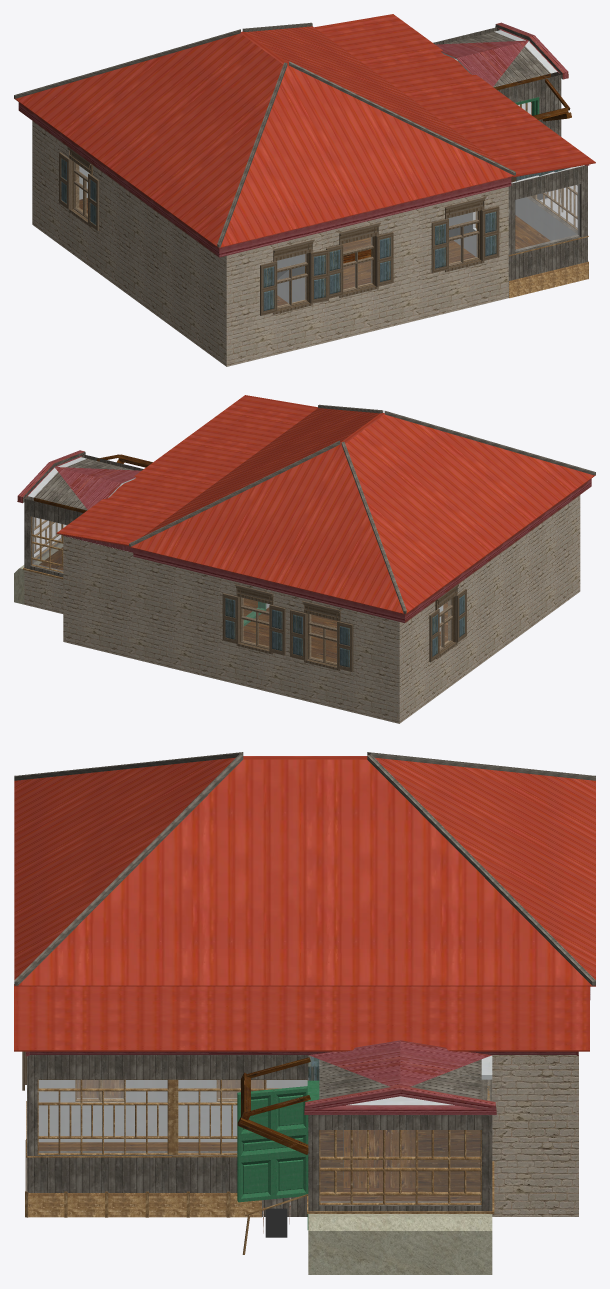
File: countryHouse.glb
3 views of the same model, one above another, from view 1: azimuth 30°, elevation 25°; view 2: azimuth 150°, elevation 25°; view 3: azimuth 270°, elevation 25° (orthographic). The views are drawn at different scales.
Visible parts, largest first — view 1: ceiling_floor_roof_0, walls_brick_0, walls_wood4_0, window.002_wood2_0, walls_wood8_0, glass_glass_0, walls_white_plast_0, ceiling_floor_wood1_0, walls_wood6_0, walls_wood5_0, window.002_wood3_0; view 2: ceiling_floor_roof_0, walls_brick_0, walls_wood8_0, walls_wood4_0, window.002_wood2_0, glass_glass_0, walls_wood6_0, ceiling_floor_wood1_0, walls_wood5_0, walls_concrate_0, walls_white_plast_0, window.002_wood3_0; view 3: ceiling_floor_roof_0, walls_wood4_0, glass_glass_0, walls_wood5_0, walls_wood6_0, walls_brick_0, walls_concrate_0, walls_wood8_0, walls_white_plast_0, DOORWAY_wood9_0, window.002_wood3_0, ministairs_Material.002_0.
Part boxes in pixels (x1=…): ceiling_floor_roof_0: x1=14, y1=14, x2=595, y2=248; walls_brick_0: x1=32, y1=121, x2=508, y2=366; walls_wood4_0: x1=14, y1=22, x2=587, y2=297; window.002_wood2_0: x1=59, y1=146, x2=499, y2=315; walls_wood8_0: x1=18, y1=22, x2=589, y2=257; glass_glass_0: x1=76, y1=102, x2=579, y2=306; walls_white_plast_0: x1=79, y1=30, x2=584, y2=303; ceiling_floor_wood1_0: x1=61, y1=158, x2=575, y2=310; walls_wood6_0: x1=79, y1=73, x2=571, y2=305; walls_wood5_0: x1=509, y1=101, x2=588, y2=298; window.002_wood3_0: x1=76, y1=163, x2=588, y2=306; ceiling_floor_roof_0: x1=56, y1=395, x2=595, y2=614; walls_brick_0: x1=24, y1=495, x2=580, y2=723; walls_wood8_0: x1=17, y1=450, x2=591, y2=622; walls_wood4_0: x1=23, y1=404, x2=595, y2=613; window.002_wood2_0: x1=222, y1=583, x2=466, y2=671; glass_glass_0: x1=32, y1=517, x2=451, y2=663; walls_wood6_0: x1=34, y1=454, x2=447, y2=662; ceiling_floor_wood1_0: x1=225, y1=594, x2=464, y2=667; walls_wood5_0: x1=23, y1=516, x2=63, y2=579; walls_concrate_0: x1=14, y1=543, x2=63, y2=604; walls_white_plast_0: x1=28, y1=457, x2=443, y2=631; window.002_wood3_0: x1=242, y1=598, x2=451, y2=663; ceiling_floor_roof_0: x1=14, y1=756, x2=595, y2=1051; walls_wood4_0: x1=14, y1=752, x2=595, y2=1216; glass_glass_0: x1=39, y1=1078, x2=480, y2=1202; walls_wood5_0: x1=25, y1=1079, x2=494, y2=1254; walls_wood6_0: x1=38, y1=1057, x2=480, y2=1201; walls_brick_0: x1=492, y1=1055, x2=578, y2=1216; walls_concrate_0: x1=308, y1=1214, x2=492, y2=1274; walls_wood8_0: x1=25, y1=987, x2=590, y2=1114; walls_white_plast_0: x1=38, y1=1052, x2=578, y2=1142; DOORWAY_wood9_0: x1=237, y1=1080, x2=319, y2=1229; window.002_wood3_0: x1=26, y1=1080, x2=266, y2=1157; ministairs_Material.002_0: x1=265, y1=1208, x2=287, y2=1237.
Bounding box in the file's own units: 14 × 6.38 × 10.86.
Materials: 17 (15 with a texture image).
